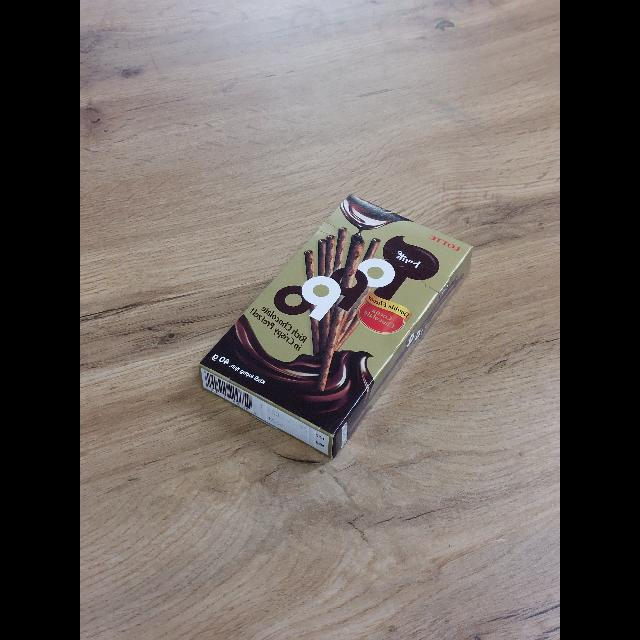banh_toppo_socola: (200, 195, 472, 458)
